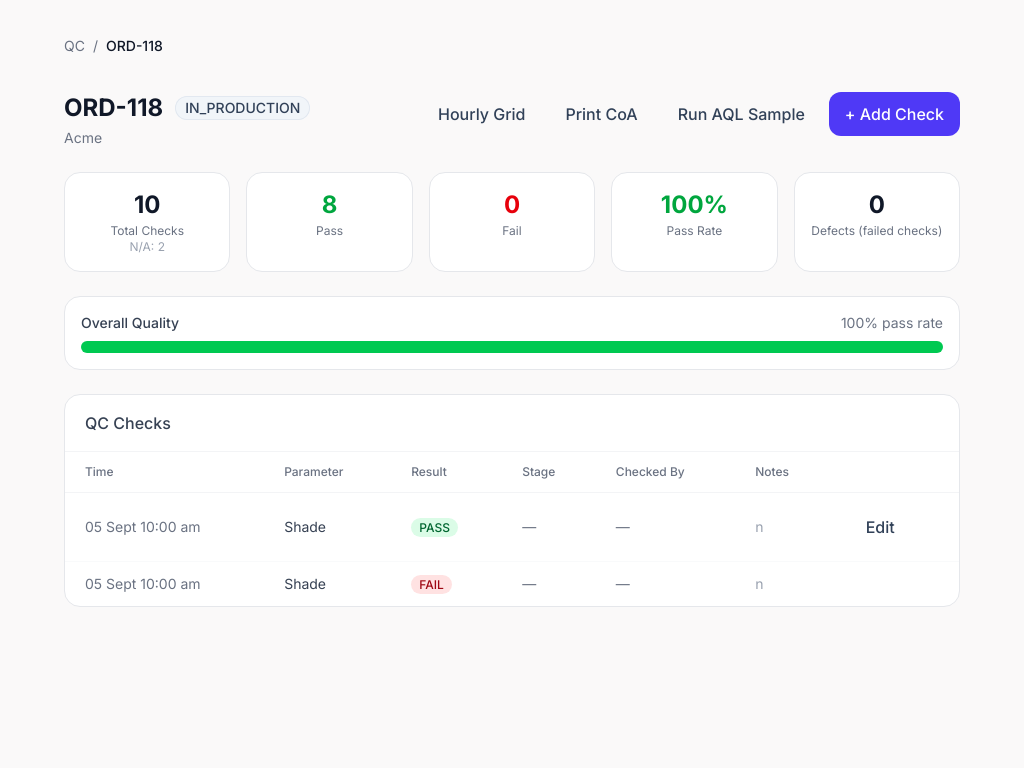
Test: B82 add check refusal › shows result.detail inline and keeps the form open
Click the button "+ Add Check". click: [894, 114]
box: [829,92,960,136]
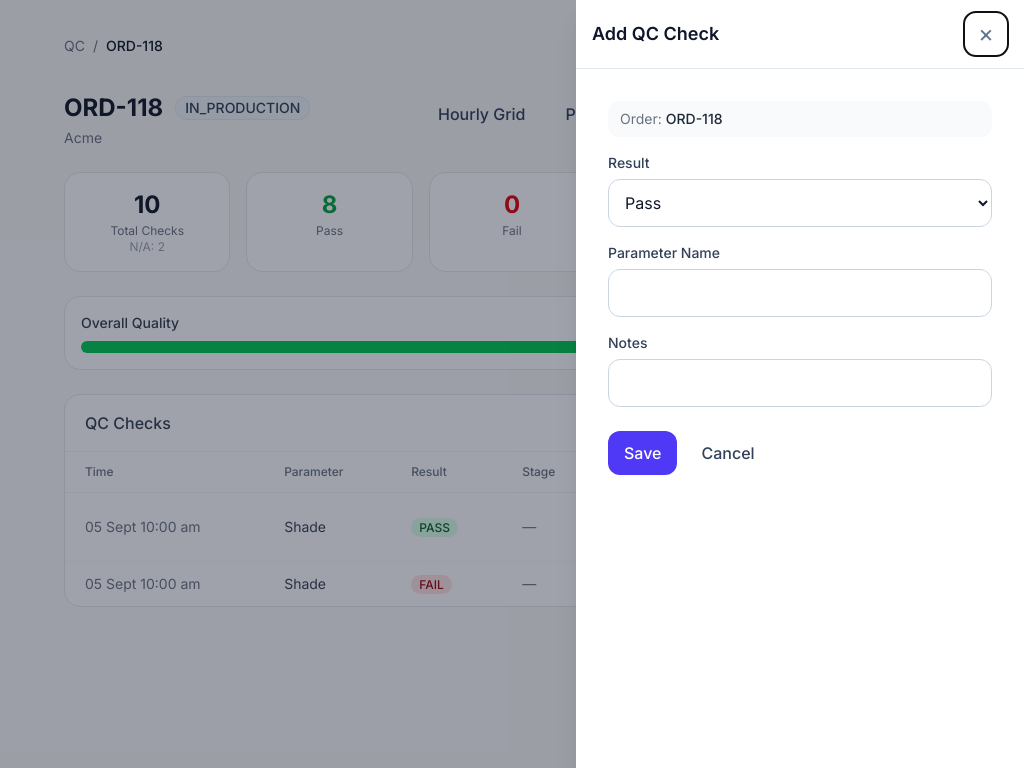
Click the button "Save". click: [643, 453]
box: [608,431,678,475]
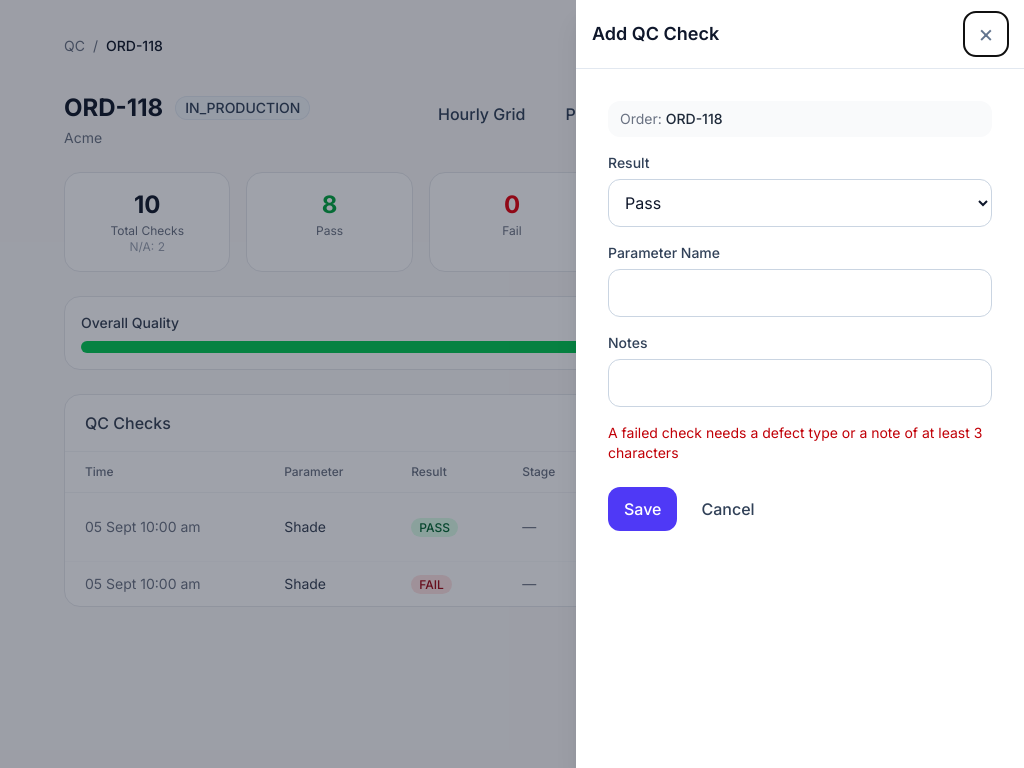
Check: the message shows "A failed check needs", box [608,424,982,461]
